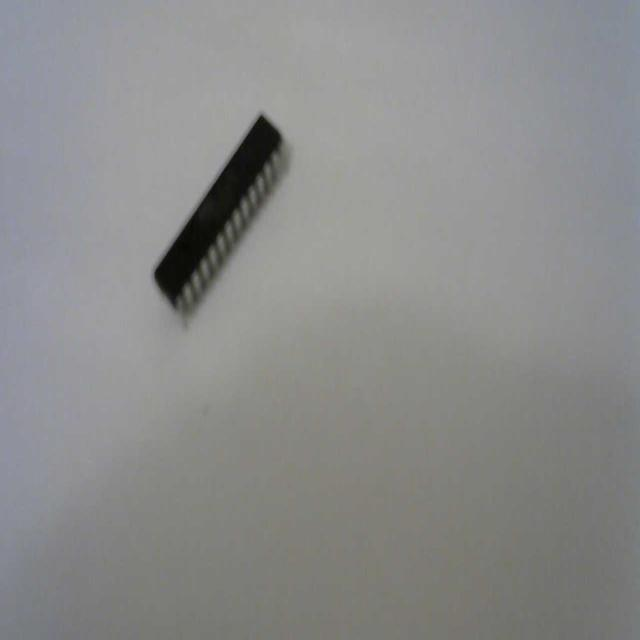atmega: (151, 107, 289, 326)
